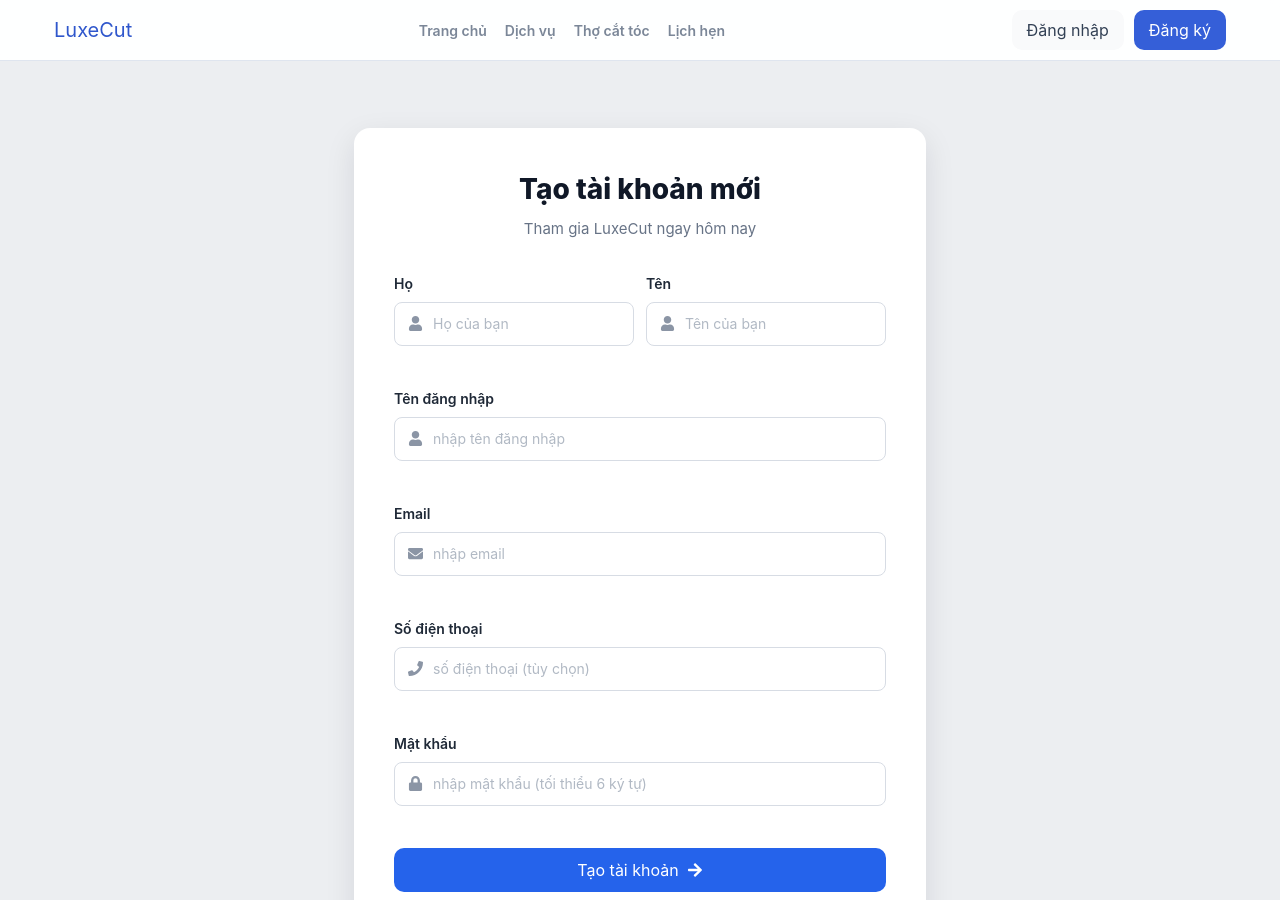
it: Register page › shows duplicate error message when submit fails
Type "newuser" into the field labelled "Tên đăng nhập" at (640, 438), box [394,416,886,460]
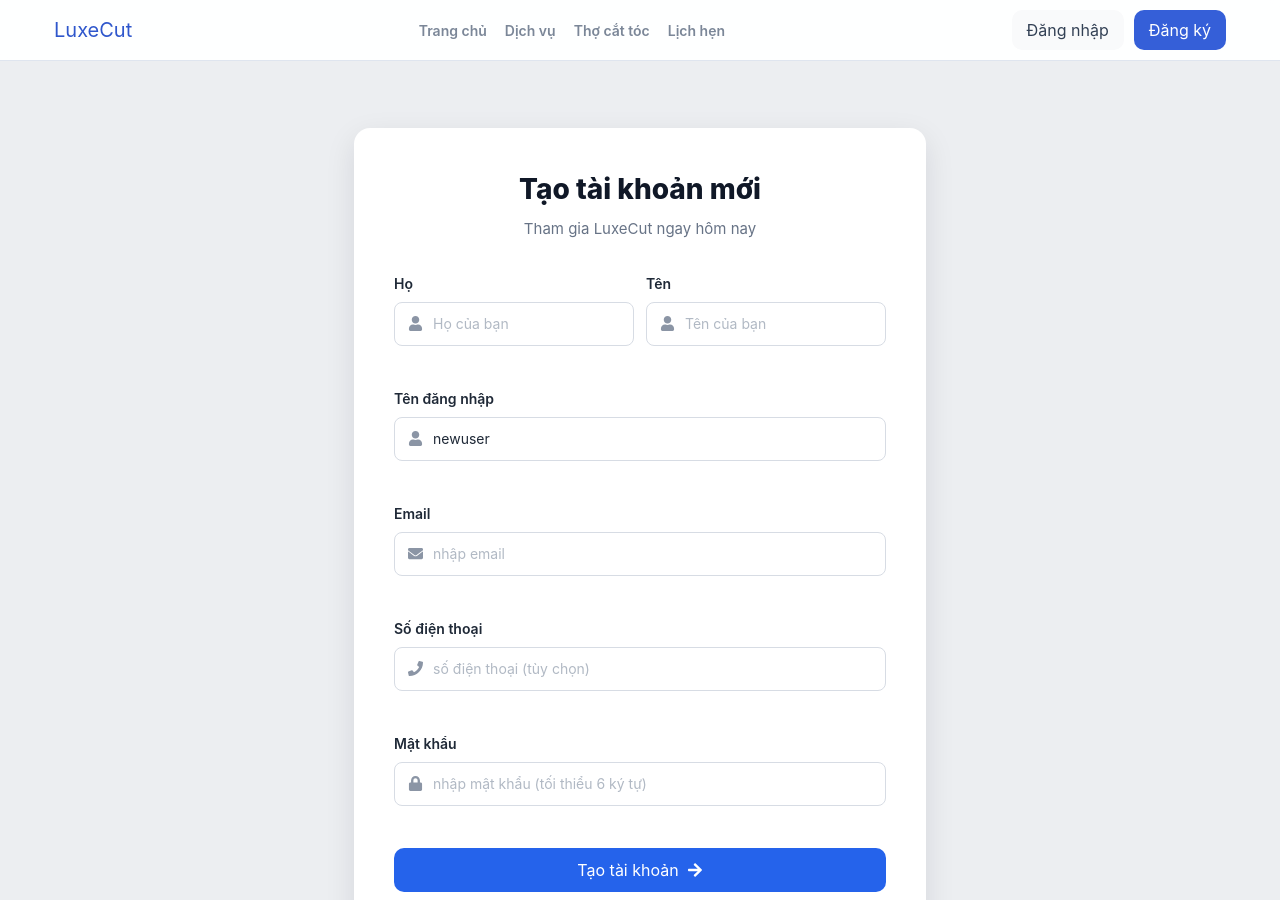
Type "newuser@example.com" into the field labelled "Email" at (640, 554), box [394,532,886,576]
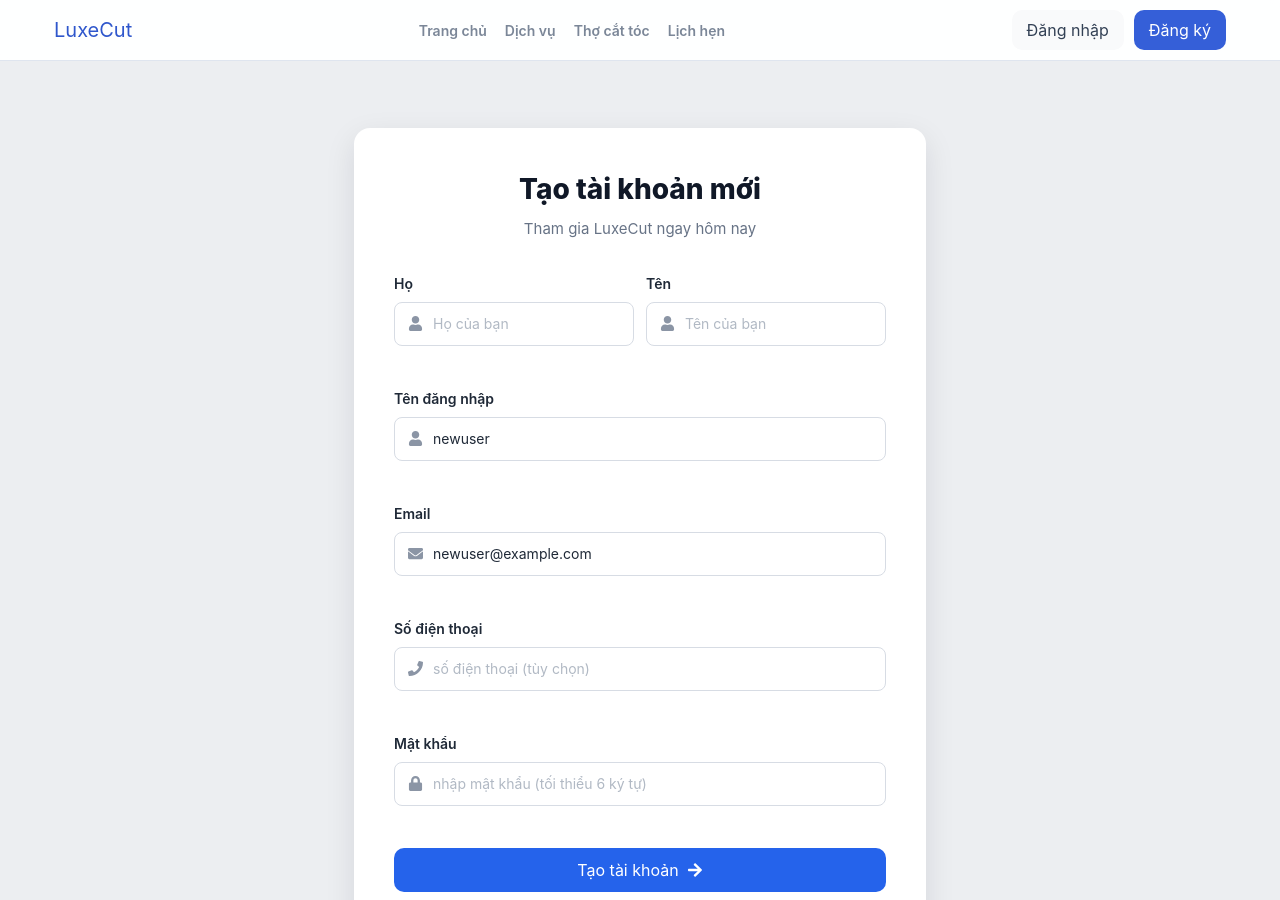
Type "123456" into the password field labelled "Mật khẩu" at (640, 784), box [394,762,886,806]
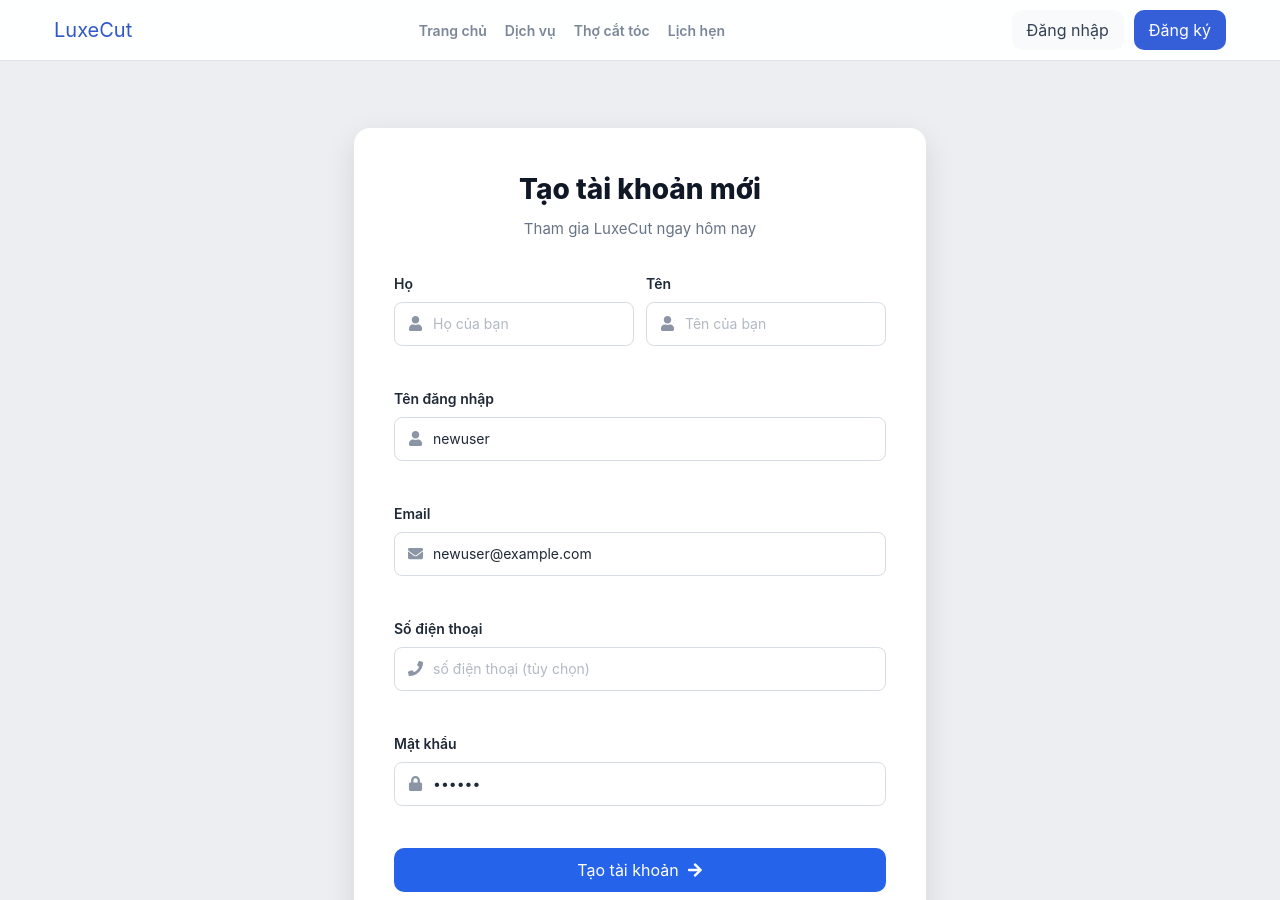
Click the button "Tạo tài khoản" at (640, 870), box [394,848,886,892]
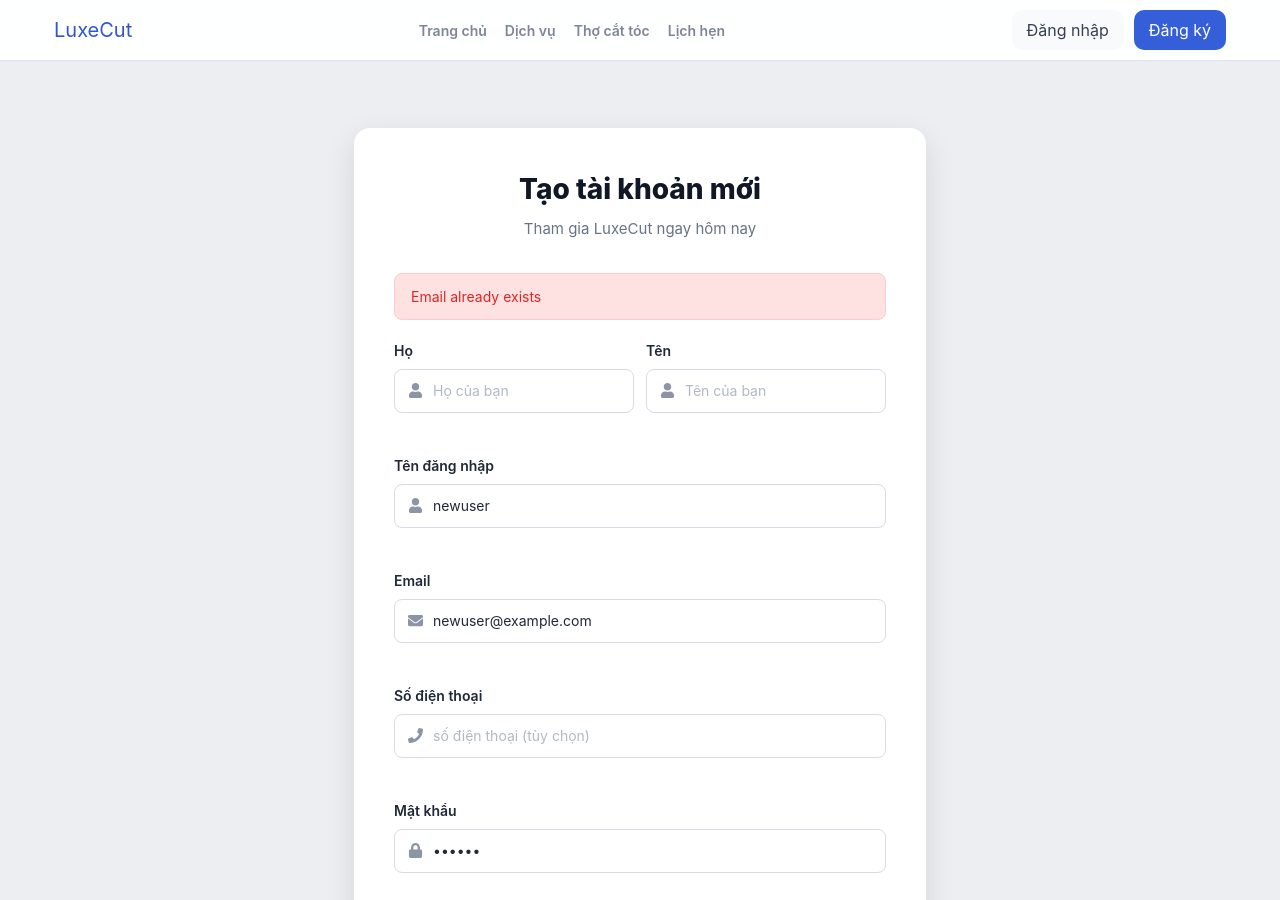
Now the text "Email already exists" is shown, box [411,288,541,304]
